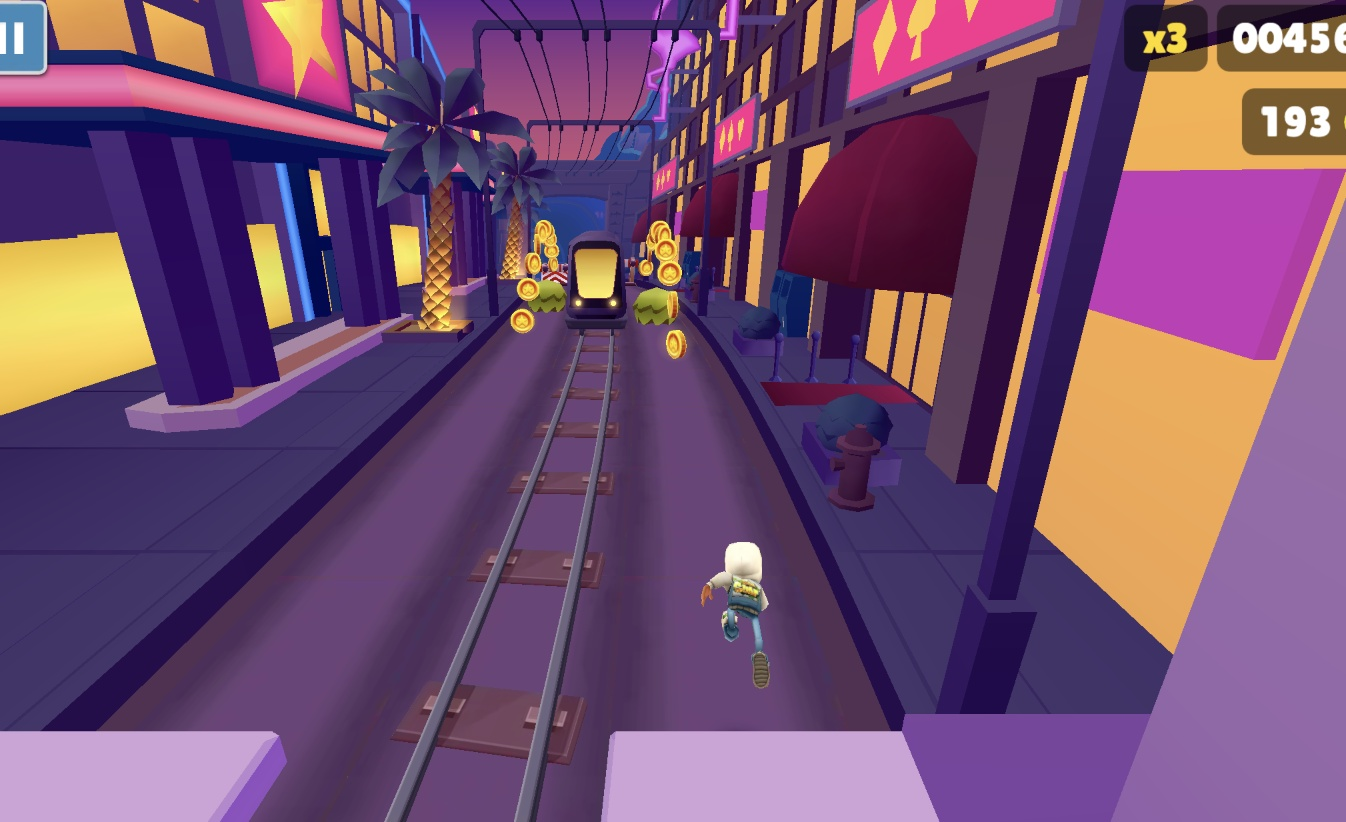bush: (632, 289, 678, 325), (526, 280, 566, 313)
ground_barrier: (625, 260, 643, 286), (541, 264, 565, 283)
train: (558, 237, 631, 334)
